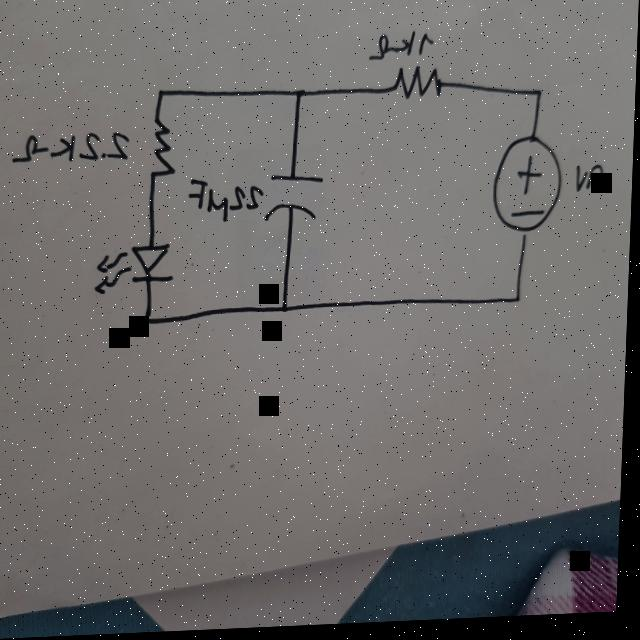capacitor: (262, 175, 326, 228)
diode: (94, 244, 179, 295)
junction: (279, 303, 294, 320), (533, 91, 546, 108), (143, 314, 157, 329), (294, 89, 307, 105), (155, 89, 167, 103), (515, 298, 526, 312)
resistor: (389, 65, 459, 106), (145, 122, 179, 179)
source: (492, 138, 567, 239)
text: (12, 130, 133, 168), (190, 176, 264, 229), (367, 32, 438, 68), (573, 167, 608, 202)
